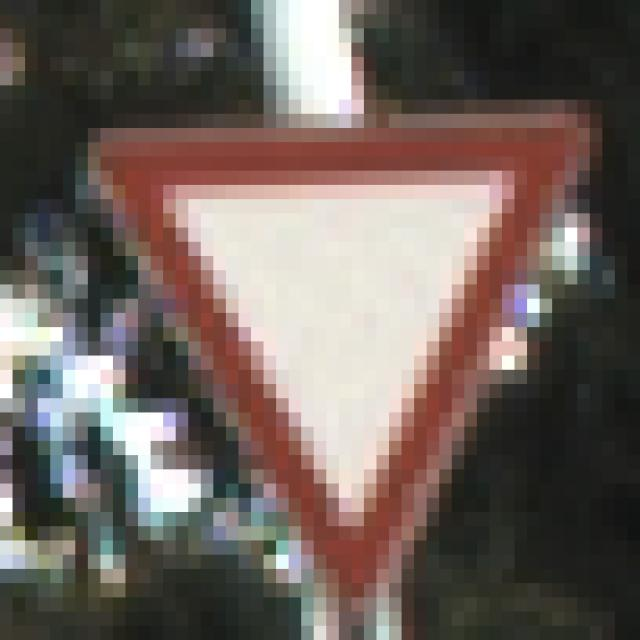Give Way: (64, 86, 578, 570)
